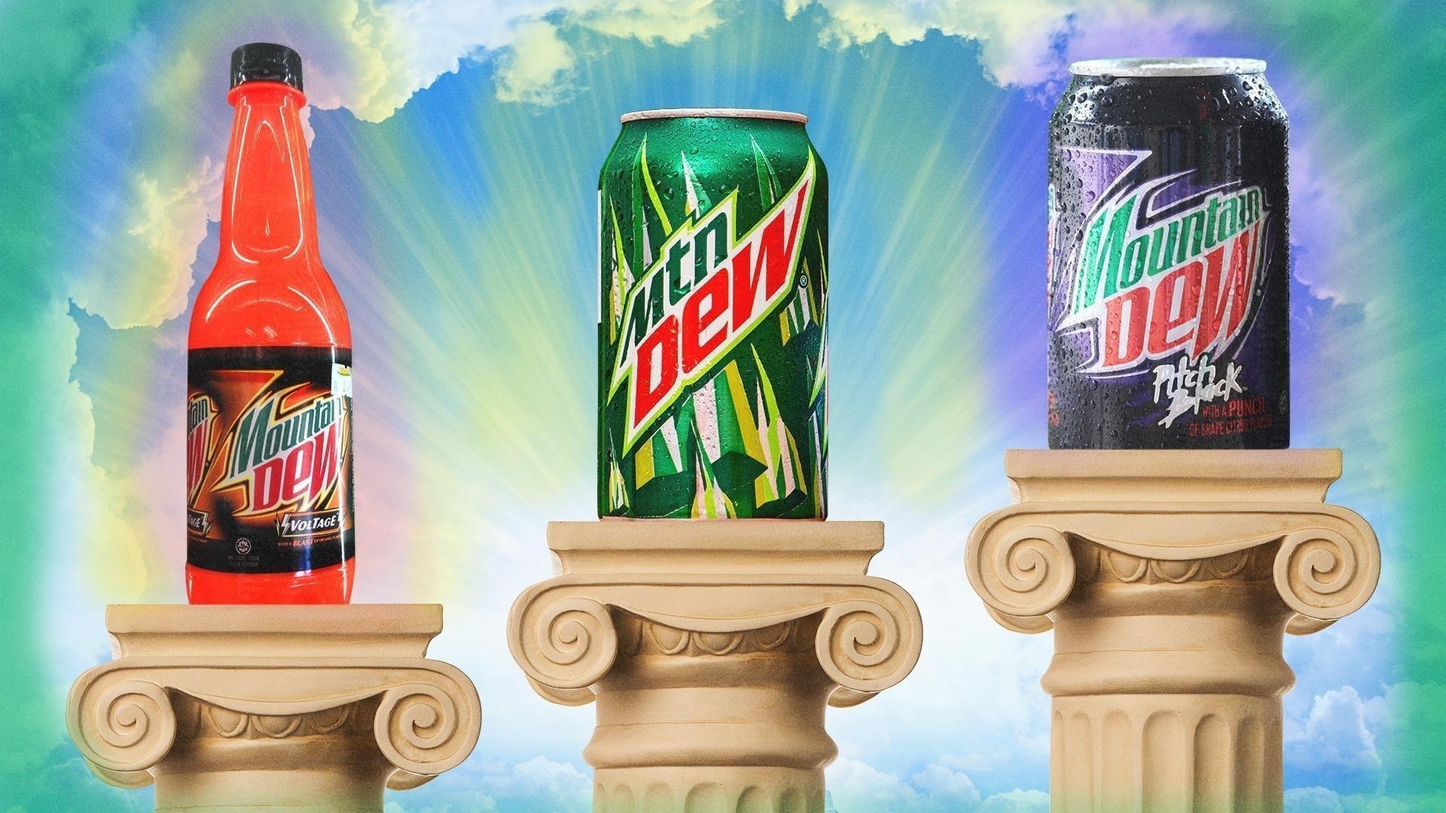bottle-plastic: (182, 38, 361, 611)
tin can: (595, 102, 835, 520), (1045, 53, 1296, 449)
